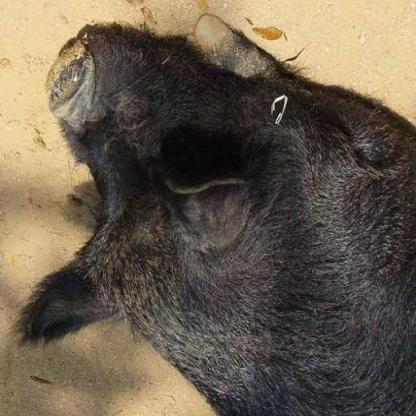boar: (58, 1, 415, 416)
